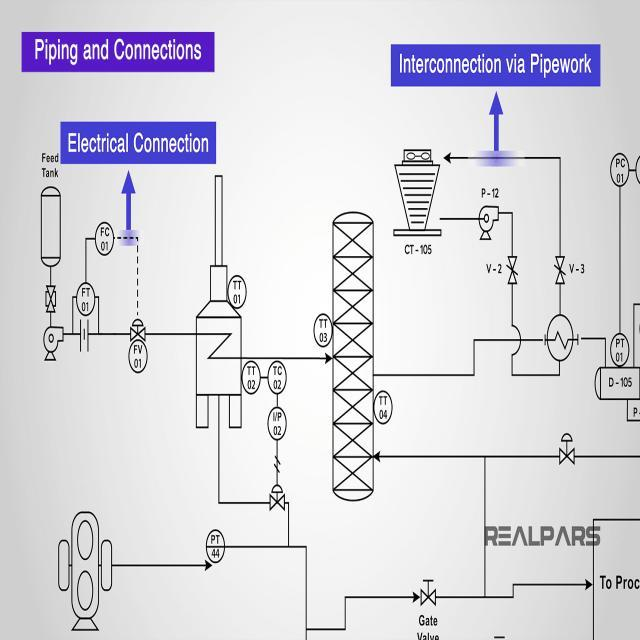Butterfly Valve: (548, 249, 568, 290), (504, 247, 520, 290)
Centrifugal Pump: (38, 321, 68, 372), (474, 197, 504, 246)
Gear Pump: (41, 504, 117, 634)
Hand Operated Gate Valve: (420, 572, 438, 609)
Orifice: (76, 312, 94, 362)
Plug Valve: (38, 280, 62, 318)
Pneumatic-Diaphragm Gate Valve: (555, 427, 577, 470), (267, 481, 288, 517), (126, 314, 150, 342)
